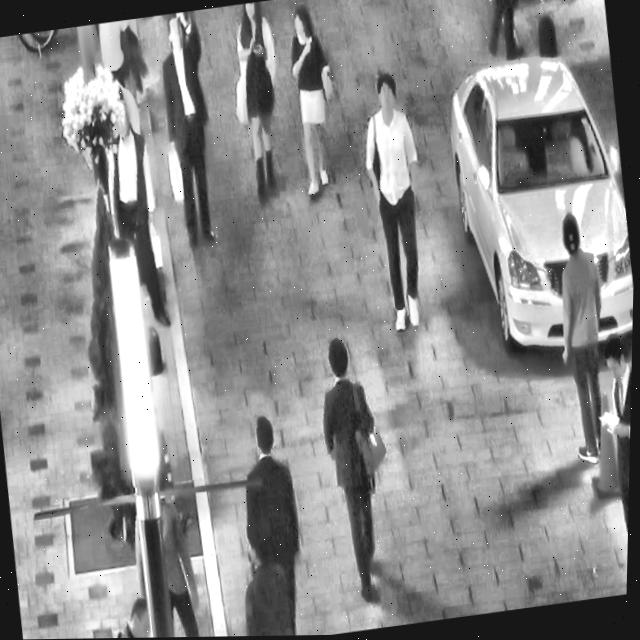light_vehicle: (430, 29, 639, 373)
